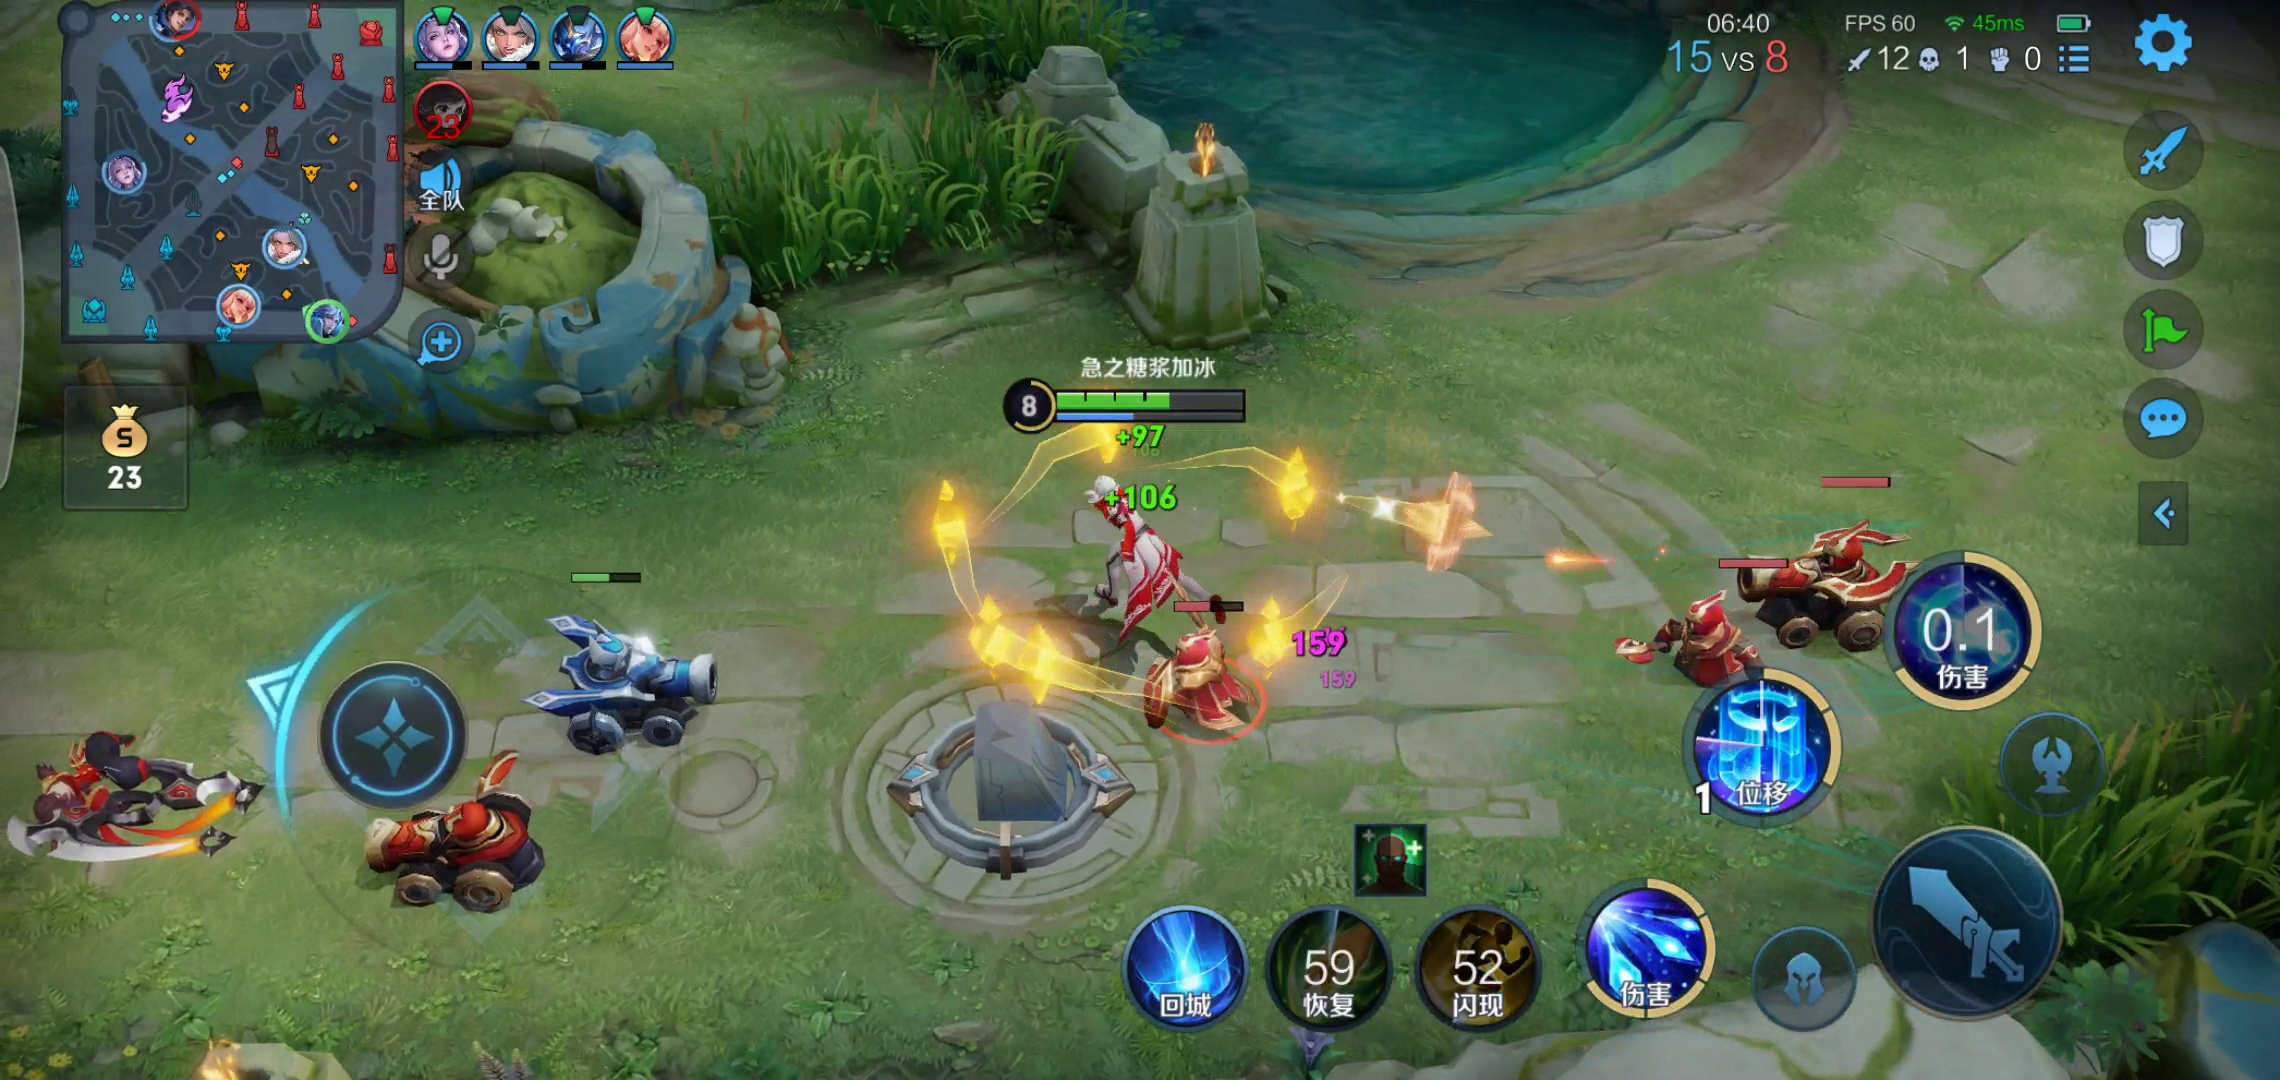grass: (681, 108, 1086, 283), (1978, 727, 2280, 951), (872, 12, 1179, 63)
hero: (25, 704, 265, 879), (1077, 475, 1211, 609)
soldier: (523, 605, 734, 759), (329, 807, 569, 906), (1759, 490, 1906, 651), (1626, 563, 1759, 690), (1147, 605, 1253, 746)
